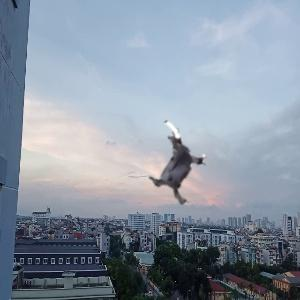drone: (134, 124, 220, 210)
